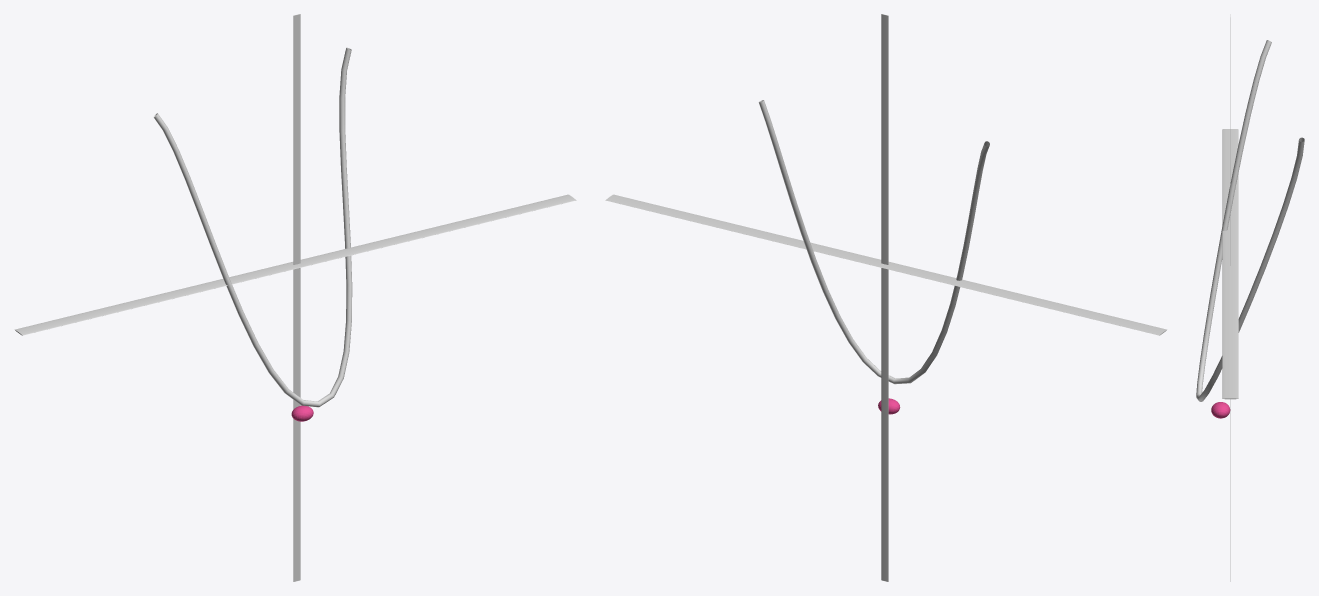
The model's file is graph copy (1).dae.
3 views of the same model, side by side, from view 1: azimuth 30°, elevation 25°; view 2: azimuth 150°, elevation 25°; view 3: azimuth 270°, elevation 25° (orthographic).
Visible parts, largest first — view 1: Cylinder, BezierCurve, Cylinder.001; view 2: Cylinder, Cylinder.001, BezierCurve; view 3: Cylinder, BezierCurve, Cylinder.001, Sphere.
Boxes of the visible parts, bbox=[...] form: Cylinder: bbox=[15, 194, 576, 335]; BezierCurve: bbox=[153, 47, 352, 407]; Cylinder.001: bbox=[293, 14, 300, 581]; Cylinder: bbox=[605, 194, 1166, 335]; Cylinder.001: bbox=[881, 14, 888, 581]; BezierCurve: bbox=[758, 100, 989, 384]; Cylinder: bbox=[1222, 129, 1238, 399]; BezierCurve: bbox=[1196, 40, 1304, 401]; Cylinder.001: bbox=[1230, 14, 1230, 581]; Sphere: bbox=[1211, 402, 1230, 418].
Size of the model in its own units: 8.66 by 1.48 by 8.46.
